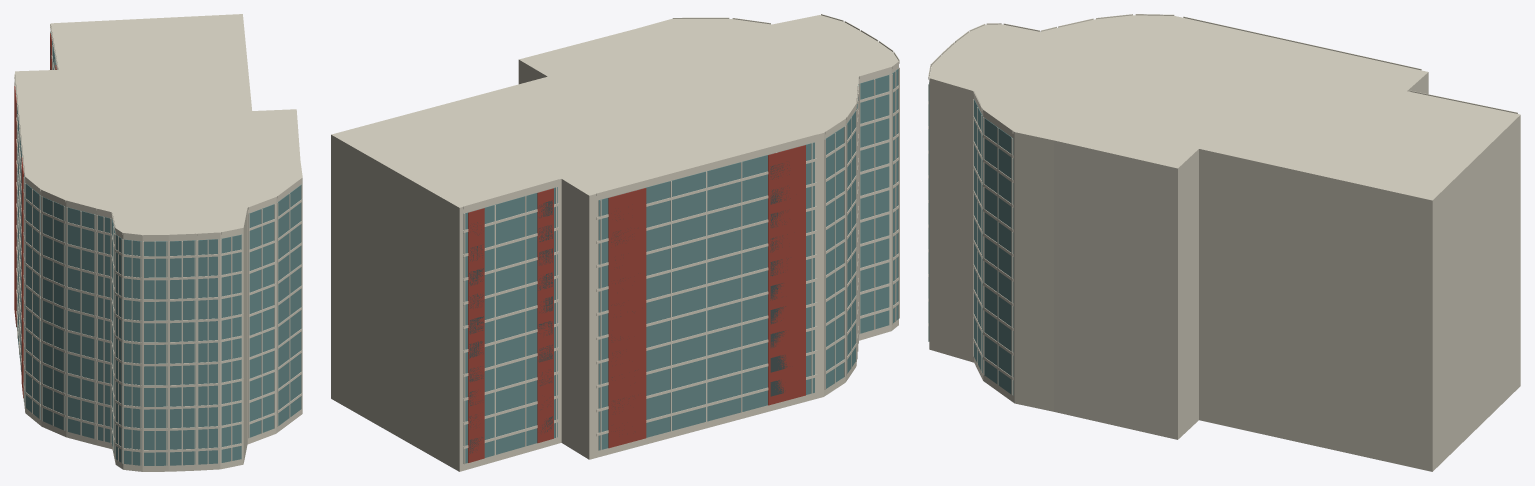
3 renders of one model, left to right at view 1: azimuth 30°, elevation 25°; view 2: azimuth 150°, elevation 25°; view 3: azimuth 270°, elevation 25°, orthographic. The views are drawn at different scales.
Visible parts, largest first — view 1: 193308962_stone, 193308962_opaque glazing, 193308962_accent; view 2: 193308962_stone, 193308962_opaque glazing, 193308962_accent, 193308962_frames; view 3: 193308962_stone, 193308962_opaque glazing.
Part boxes in pixels (left/top/right/bottom): 193308962_stone: left=14, top=14, right=302, bottom=471; 193308962_opaque glazing: left=15, top=31, right=301, bottom=465; 193308962_accent: left=14, top=33, right=56, bottom=398; 193308962_stone: left=331, top=14, right=899, bottom=471; 193308962_opaque glazing: left=463, top=68, right=898, bottom=463; 193308962_accent: left=468, top=145, right=805, bottom=462; 193308962_frames: left=469, top=163, right=790, bottom=454; 193308962_stone: left=928, top=14, right=1520, bottom=471; 193308962_opaque glazing: left=928, top=82, right=1013, bottom=395.
Bounding box in the file's own units: 61.36 × 41.92 × 82.71.
